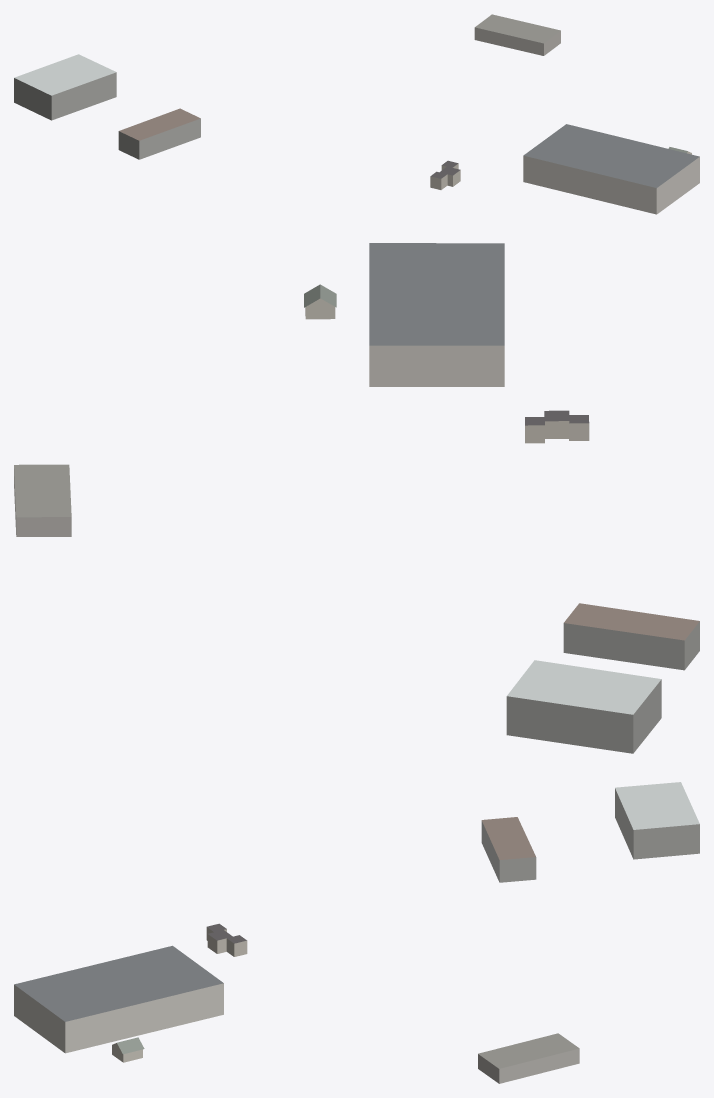
The picture shows the model from 3 angles, top to bottom: view 1: azimuth 30°, elevation 25°; view 2: azimuth 150°, elevation 25°; view 3: azimuth 270°, elevation 25°; orthographic projection. The views are drawn at different scales.
Parts seen in each view (by area): view 1: tuile; view 2: tuile; view 3: tuile.
Boxes of the visible parts, x1,y1,x2,y2 form: tuile: [14, 14, 699, 214]; tuile: [14, 243, 699, 753]; tuile: [14, 782, 699, 1083].
Bounding box in the file's own units: 208 × 15.77 × 221.
